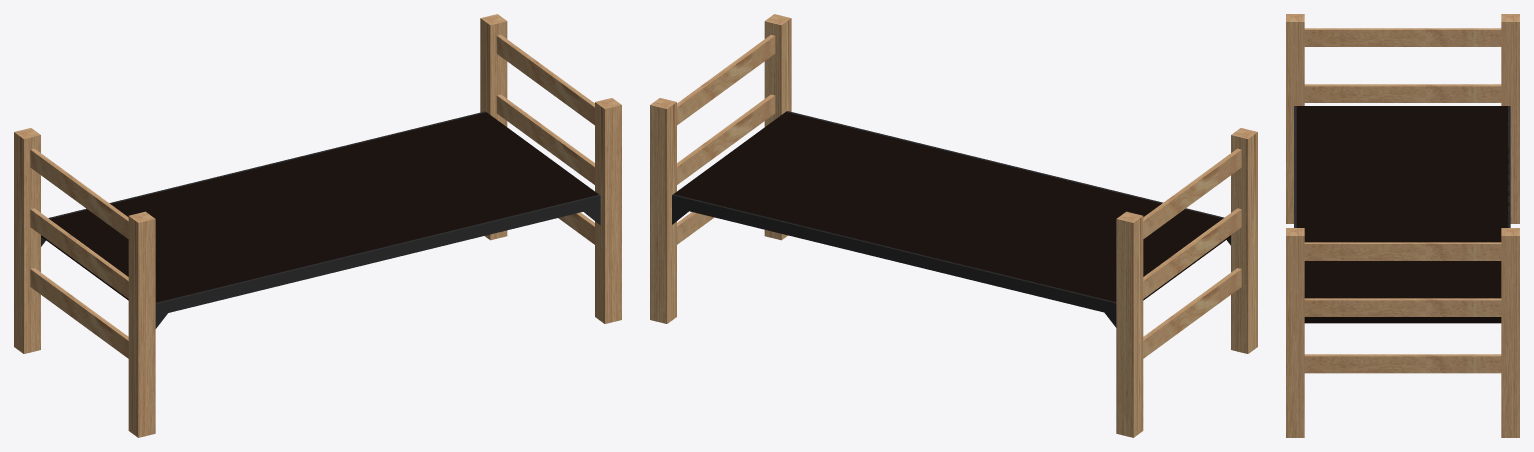
The model's file is bed-with-textures.glb.
3 renders of one model, left to right at view 1: azimuth 30°, elevation 25°; view 2: azimuth 150°, elevation 25°; view 3: azimuth 270°, elevation 25°, orthographic. The views are drawn at different scales.
Parts seen in each view (by area): view 1: Cube, Cube.001, Cube.002, Circle, Circle.001; view 2: Cube, Cube.001, Cube.002, Circle.001, Circle; view 3: Cube, Cube.002, Cube.001, Circle, Circle.001.
Boxes of the visible parts, box(x1,y1,x2,y2) form: Cube: box(41, 112, 598, 302); Cube.001: box(14, 128, 155, 437); Cube.002: box(480, 14, 621, 323); Circle: box(155, 195, 600, 328); Circle.001: box(41, 111, 486, 246); Cube: box(673, 112, 1230, 301); Cube.001: box(1116, 128, 1257, 437); Cube.002: box(650, 14, 791, 323); Circle.001: box(672, 194, 1116, 327); Circle: box(786, 111, 1230, 245); Cube: box(1296, 106, 1509, 323); Cube.002: box(1286, 228, 1519, 437); Cube.001: box(1286, 14, 1519, 223); Circle: box(1294, 106, 1296, 227); Circle.001: box(1508, 106, 1510, 227).
Size of the model in its own units: 84.75 by 36 by 37.75.
5 materials, 2 textured.
